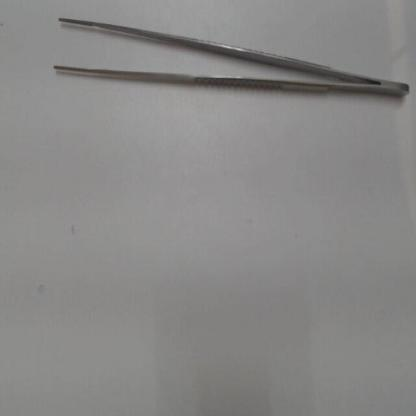DeBakey Dissector: (46, 8, 412, 107)
